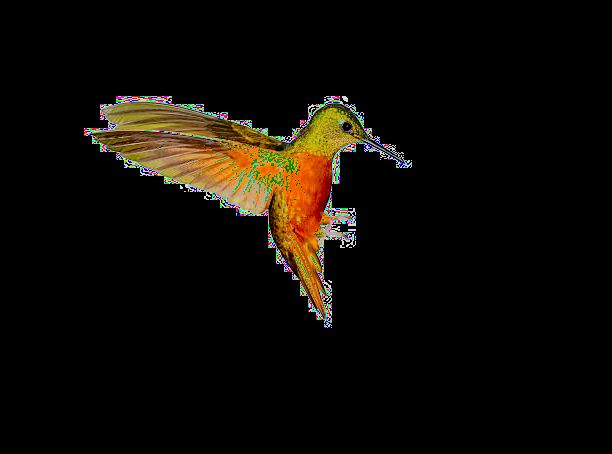Bird: (83, 90, 416, 331)
